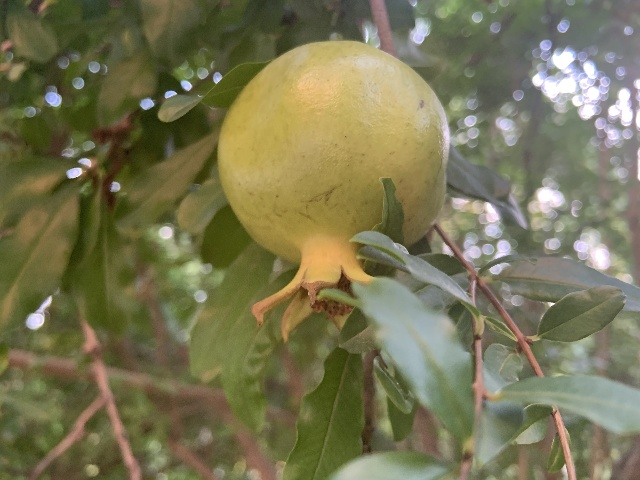mid-growth: (217, 40, 449, 347)
